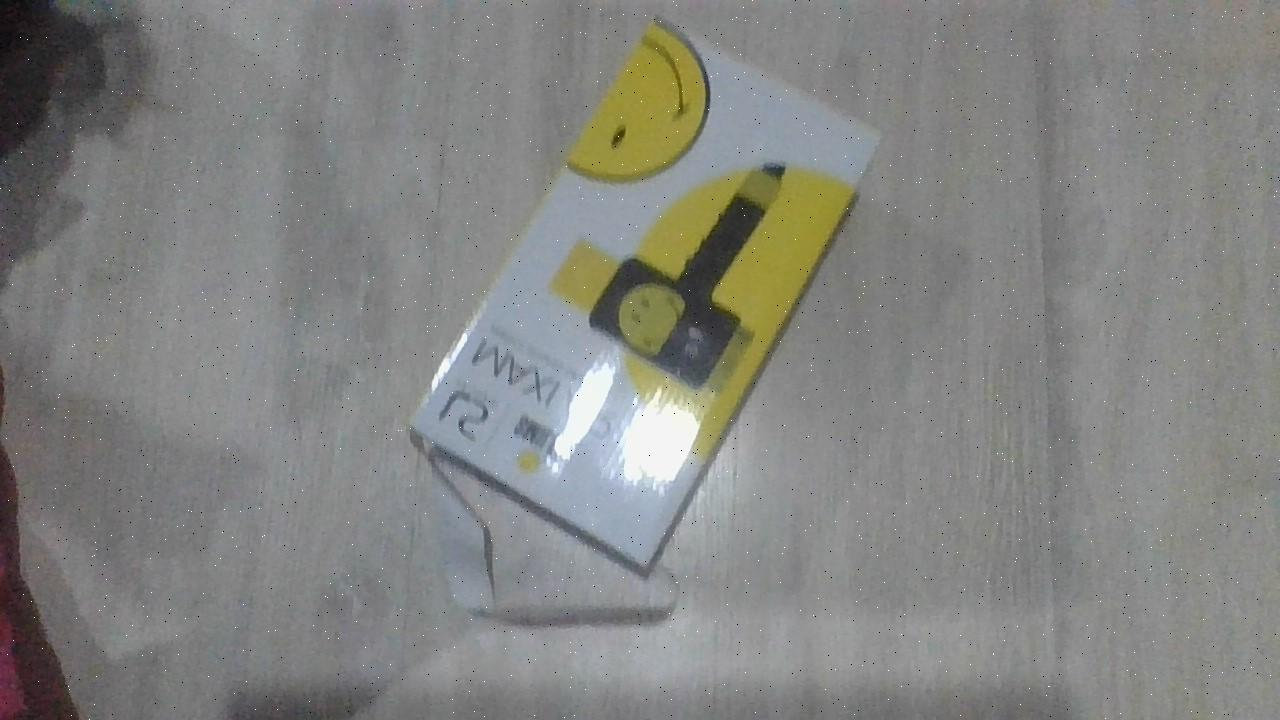Dryer: (405, 13, 885, 618)
